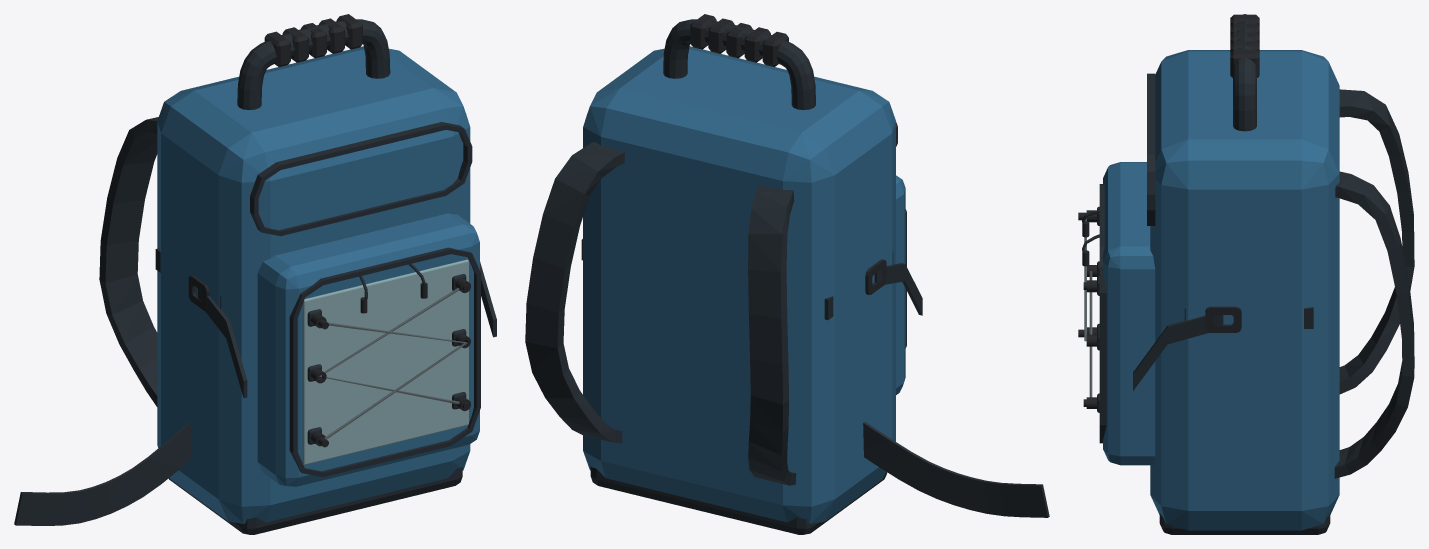
File: full.glb
The picture shows the model from 3 angles, left to right: view 1: azimuth 30°, elevation 25°; view 2: azimuth 150°, elevation 25°; view 3: azimuth 270°, elevation 25°; orthographic projection.
Visible parts, largest first — view 1: Rounded main soft bag, Contrasting pouch panel, Bulging front compartment, Generic padded rear shoulder strap -1, Loose lower webbing, Nested front zipper perimeter, Main arched zipper perimeter, Top grab handle, Reinforced bottom panel, Loose compression tail -1, Crisscross elastic cord -1, Crisscross elastic cord 1 (+1 smaller); view 2: Rounded main soft bag, Generic padded rear shoulder strap 1, Generic padded rear shoulder strap -1, Loose lower webbing, Top grab handle, Reinforced bottom panel, Bulging front compartment, Loose compression tail -1; view 3: Rounded main soft bag, Bulging front compartment, Generic padded rear shoulder strap 1, Generic padded rear shoulder strap -1, Top grab handle, Nested front zipper perimeter, Loose compression tail 1, Main arched zipper perimeter, Reinforced bottom panel, Side release buckle 1, Segmented handle grip 4, Crisscross elastic cord 1.
Part boxes in pixels (box(x1,y1,x2,y2)): Rounded main soft bag: box(157, 46, 470, 523); Contrasting pouch panel: box(302, 259, 468, 464); Bulging front compartment: box(257, 213, 479, 486); Generic padded rear shoulder strap -1: box(99, 117, 158, 406); Loose lower webbing: box(14, 422, 191, 525); Nested front zipper perimeter: box(289, 247, 480, 477); Main arched zipper perimeter: box(250, 122, 472, 236); Top grab handle: box(237, 19, 390, 110); Reinforced bottom panel: box(168, 466, 462, 534); Loose compression tail -1: box(198, 288, 247, 398); Crisscross elastic cord -1: box(324, 322, 467, 439); Crisscross elastic cord 1: box(319, 288, 459, 404); Rounded main soft bag: box(583, 46, 895, 523); Generic padded rear shoulder strap 1: box(525, 141, 624, 443); Generic padded rear shoulder strap -1: box(748, 185, 796, 485); Loose lower webbing: box(863, 422, 1049, 517); Top grab handle: box(663, 19, 815, 109); Reinforced bottom panel: box(590, 466, 887, 534); Bulging front compartment: box(896, 175, 905, 394); Loose compression tail -1: box(874, 263, 922, 315); Rounded main soft bag: box(1150, 50, 1339, 530); Bulging front compartment: box(1103, 162, 1155, 465); Generic padded rear shoulder strap 1: box(1334, 171, 1414, 478); Generic padded rear shoulder strap -1: box(1339, 89, 1414, 394); Top grab handle: box(1233, 14, 1256, 131); Nested front zipper perimeter: box(1099, 184, 1106, 443); Loose compression tail 1: box(1133, 315, 1223, 390); Main arched zipper perimeter: box(1147, 73, 1155, 225); Reinforced bottom panel: box(1159, 513, 1330, 534); Side release buckle 1: box(1205, 306, 1241, 332); Segmented handle grip 4: box(1230, 49, 1259, 77); Crisscross elastic cord 1: box(1089, 271, 1092, 397).
Size of the model in its own units: 0.5759 by 0.5798 by 0.3905.
